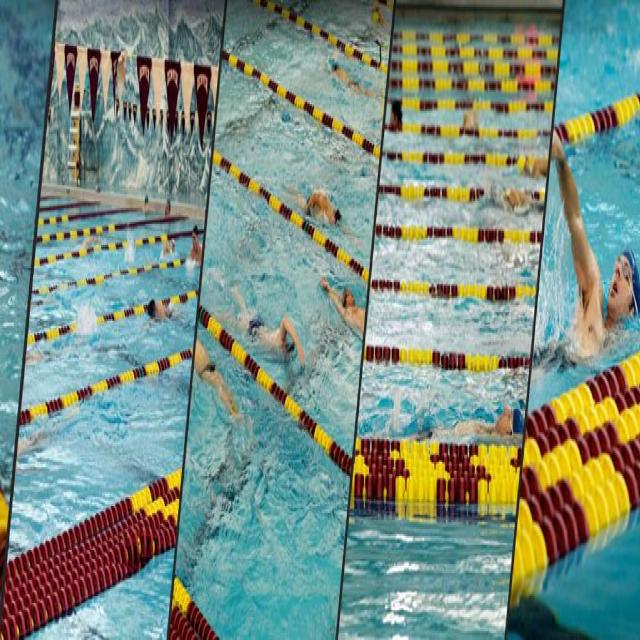nomask: (604, 230, 640, 310)
